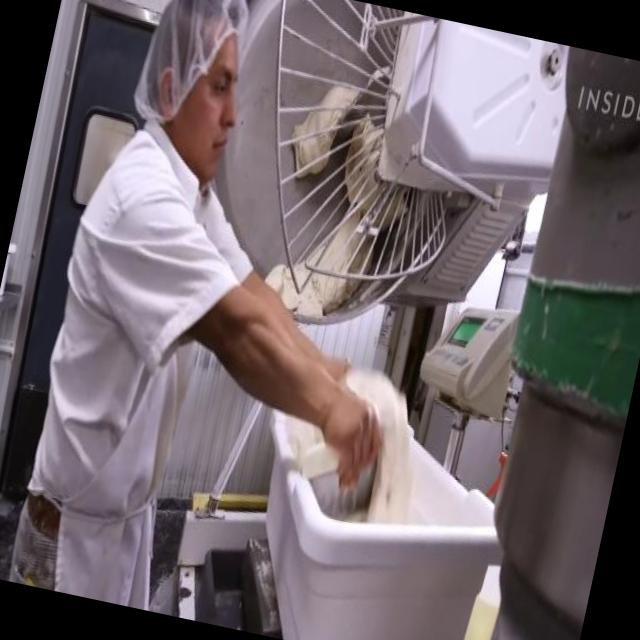hairnet: (132, 0, 247, 115)
